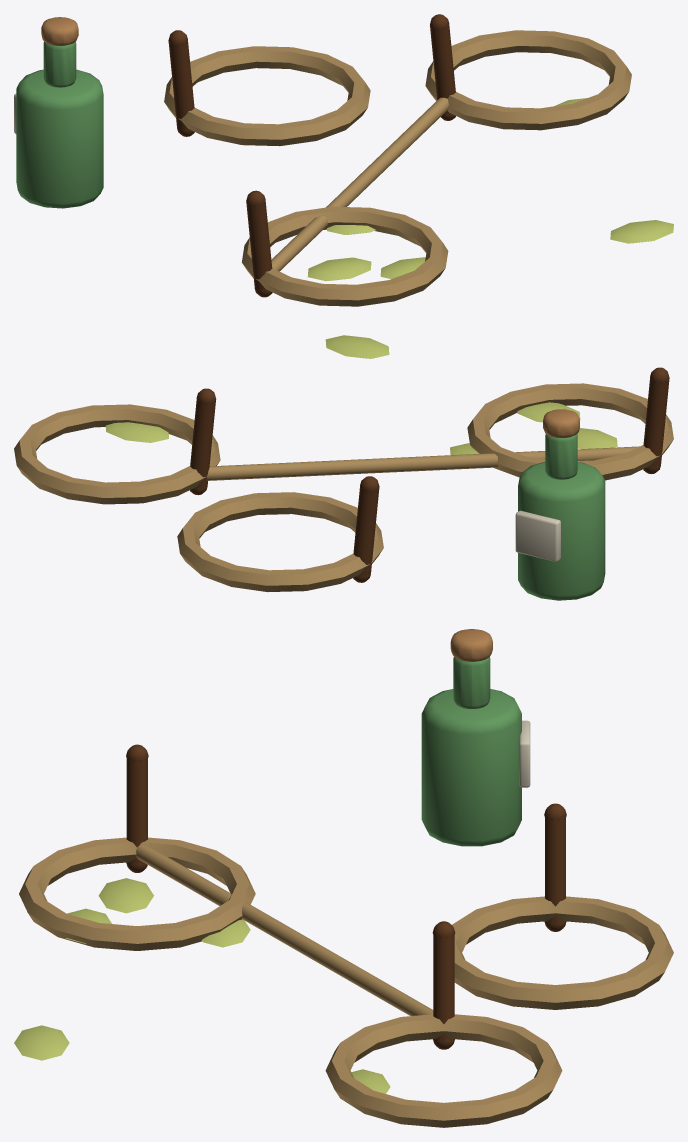
File: d_snare.fbx
3 views of the same model, one above another, from view 1: azimuth 30°, elevation 25°; view 2: azimuth 150°, elevation 25°; view 3: azimuth 270°, elevation 25° (orthographic). The views are drawn at different scales.
Parts seen in each view (by area): view 1: d_snare; view 2: d_snare; view 3: d_snare.
Part boxes in pixels (x1,y1,x2,y2): d_snare: [14, 14, 673, 306]; d_snare: [14, 335, 673, 600]; d_snare: [14, 629, 673, 1127].
Bounding box in the file's own units: 2.75 × 0.8108 × 2.37.
